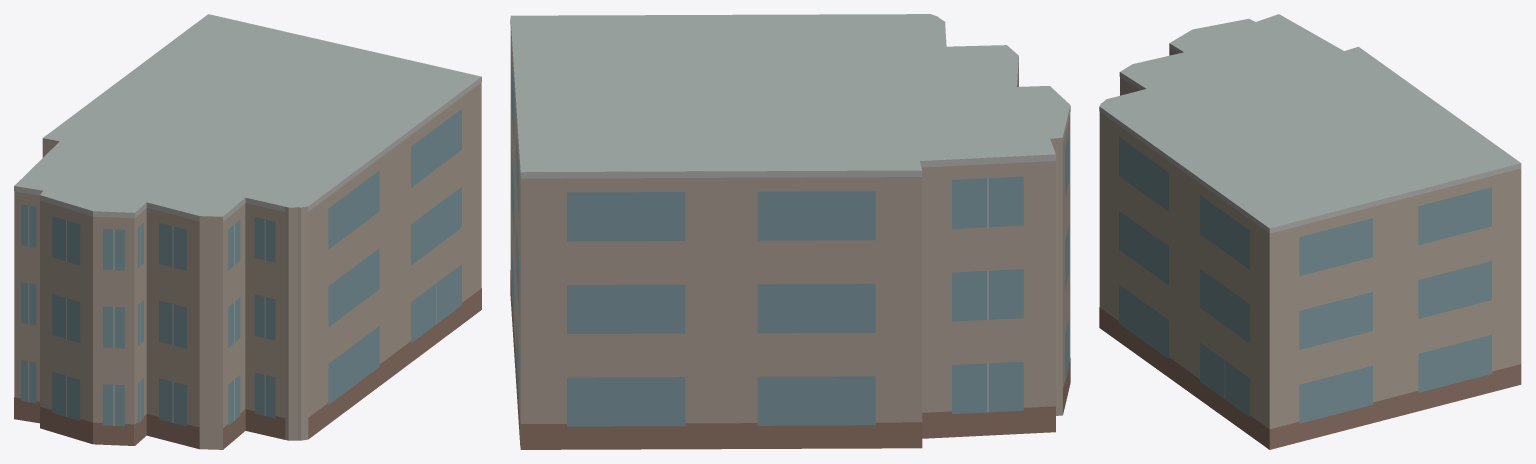
Rendered from survey-upis-32832339.glb.
3 views of the same model, side by side, from view 1: azimuth 30°, elevation 25°; view 2: azimuth 150°, elevation 25°; view 3: azimuth 270°, elevation 25° (orthographic). The views are drawn at different scales.
Visible parts, largest first — view 1: survey-upis-32832339.tmp; view 2: survey-upis-32832339.tmp; view 3: survey-upis-32832339.tmp.
Part boxes in pixels (x1,y1,x2,y2): survey-upis-32832339.tmp: (14,14,481,449); survey-upis-32832339.tmp: (510,14,1070,449); survey-upis-32832339.tmp: (1099,14,1521,449).
Bounding box in the file's own units: 21.61 × 10.4 × 17.96.
